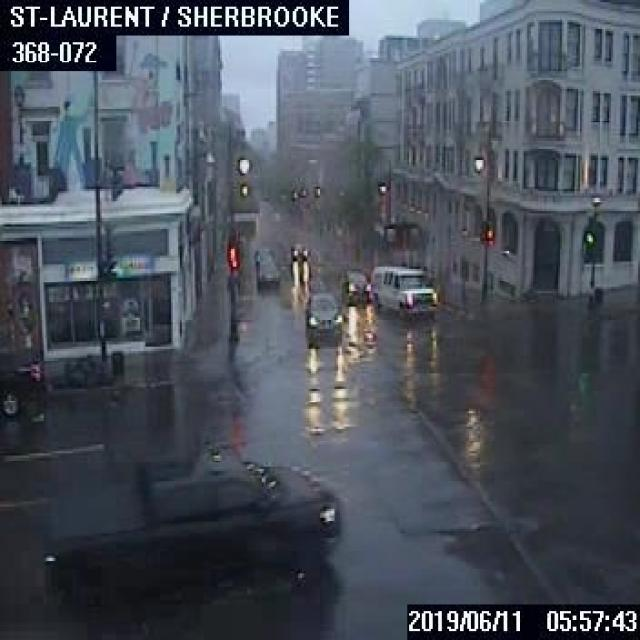vehicle: (40, 456, 336, 606), (369, 262, 436, 316), (0, 351, 42, 418), (303, 290, 342, 338), (340, 269, 368, 303), (255, 262, 278, 286), (289, 241, 305, 257)
